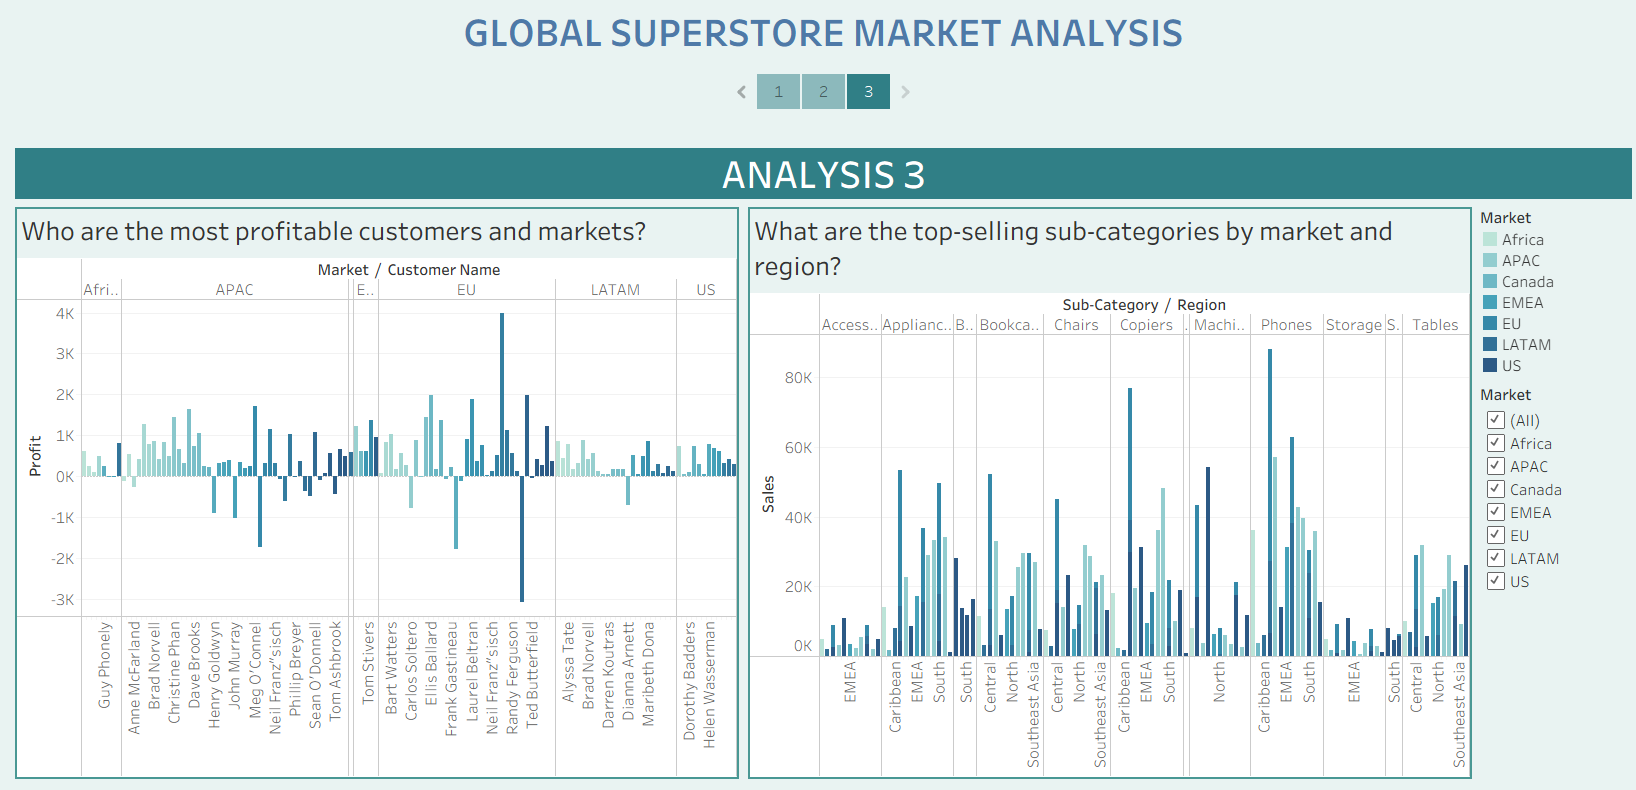

This screenshot's page, from the dashboard's own definition file:
{"tool":"tableau","page":{"name":"Dashboard 3","canvas":[1000,1000],"units":"permille","ordinal":2},"visuals":[{"type":"title","box":[4.8,10,990.3,73.7]},{"type":"worksheet","title":"Q5","mark":"Automatic","rows":["Profit"],"cols":["Market","Customer Name"],"box":[4.8,83.7,446.9,906.4]},{"type":"worksheet","title":"Q10","mark":"Automatic","rows":["Sales"],"cols":["Sub-Category","Region"],"box":[451.7,83.7,446.9,906.4]},{"type":"legend","title":"Q10","param":"[federated.0rowrb806fcned1h7k7491y5p6l9].[none:Market:nk]","box":[898.6,83.7,96.6,221]},{"type":"filter","title":"Q5","param":"[federated.0rowrb806fcned1h7k7491y5p6l9].[none:Market:nk]","box":[898.6,304.6,96.6,274.7]}]}

Visuals, with their boxes on the dashboard's canvas, which has no fixed pixel size, in thousandths of its width and height (x1, y1, x2, y2). These are canvas units, not pixel positions in the 1636x790 screenshot, which may show the page scaled, cropped or inside an application window:
title: 5:10:995:84
"Q5" worksheet: 5:84:452:990
"Q10" worksheet: 452:84:899:990
"Q10" legend: 899:84:995:305
"Q5" filter: 899:305:995:579
